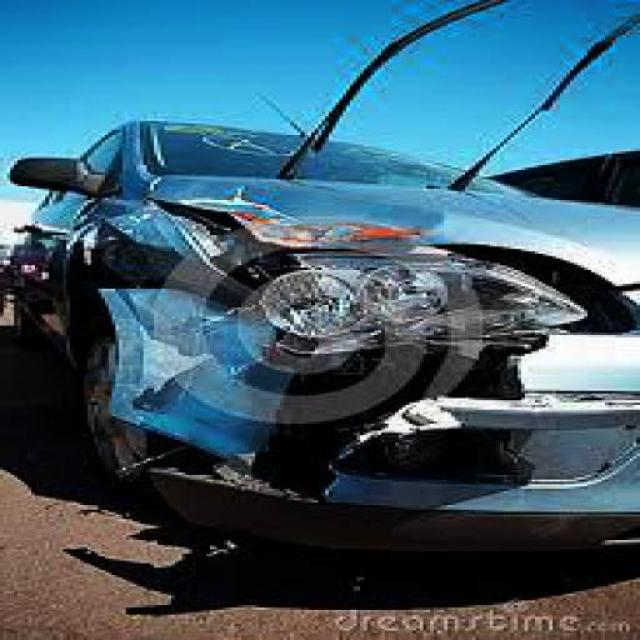Car-Damage: (65, 183, 640, 556)
